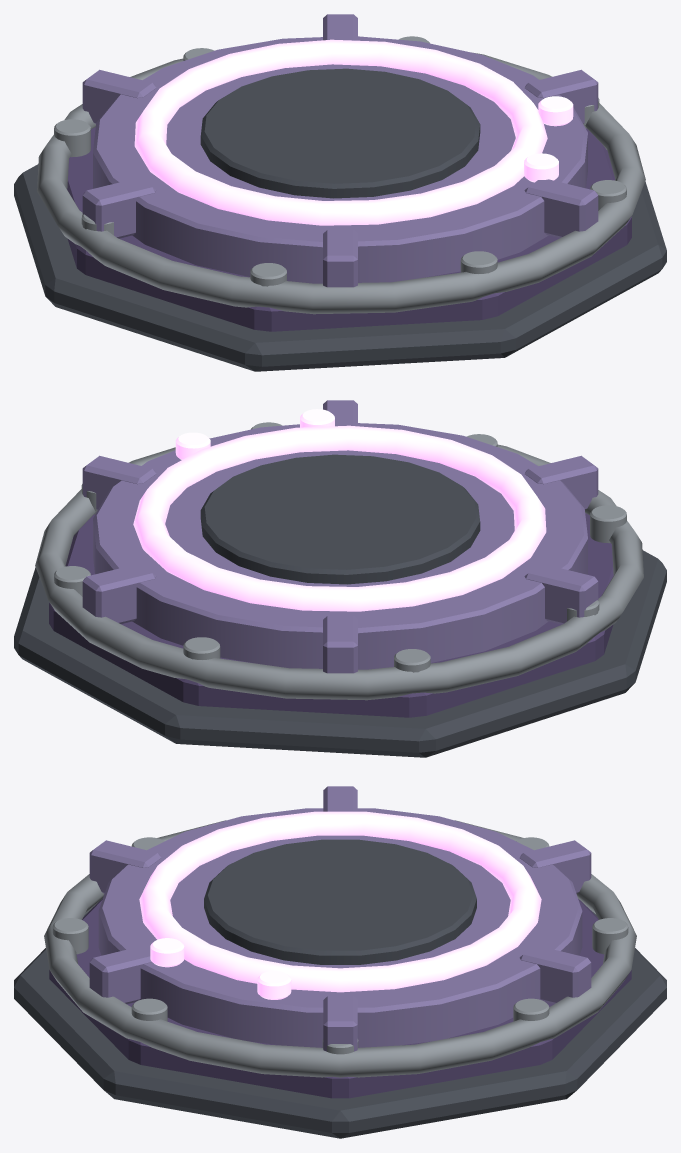
Rendered from arc_base_l2.glb.
3 renders of one model, top to bottom at view 1: azimuth 30°, elevation 25°; view 2: azimuth 150°, elevation 25°; view 3: azimuth 270°, elevation 25°, orthographic. The views are drawn at different scales.
Visible parts, largest first — view 1: Cylinder.002, Cylinder, Cylinder.003, Torus.001, Torus, Cylinder.001, Cube.005, Cube.003, Cube.002, Cube.004, Cube, Cylinder.007 (+6 smaller); view 2: Cylinder.002, Cylinder, Cylinder.003, Torus.001, Torus, Cylinder.001, Cube.001, Cube.003, Cube.004, Cube.002, Cube, Cylinder.009 (+6 smaller); view 3: Cylinder.002, Cylinder, Cylinder.003, Torus, Torus.001, Cylinder.001, Cube.001, Cube.005, Cube.002, Cube.004, Cube, Cylinder.006 (+6 smaller).
Part boxes in pixels (x1=…): Cylinder.002: x1=93, y1=36, x2=587, y2=283; Cylinder: x1=14, y1=164, x2=666, y2=371; Cylinder.003: x1=200, y1=68, x2=480, y2=198; Torus.001: x1=134, y1=39, x2=547, y2=225; Torus: x1=37, y1=52, x2=645, y2=314; Cylinder.001: x1=67, y1=127, x2=631, y2=331; Cube.005: x1=524, y1=179, x2=598, y2=237; Cube.003: x1=82, y1=177, x2=156, y2=238; Cube.002: x1=82, y1=69, x2=156, y2=123; Cube.004: x1=323, y1=229, x2=357, y2=287; Cube: x1=524, y1=69, x2=598, y2=123; Cylinder.007: x1=54, y1=119, x2=90, y2=157; Cylinder.002: x1=93, y1=423, x2=587, y2=669; Cylinder: x1=14, y1=550, x2=666, y2=757; Cylinder.003: x1=200, y1=454, x2=480, y2=584; Torus.001: x1=133, y1=425, x2=546, y2=611; Torus: x1=35, y1=444, x2=643, y2=700; Cylinder.001: x1=49, y1=513, x2=613, y2=717; Cube.001: x1=82, y1=563, x2=156, y2=623; Cube.003: x1=524, y1=563, x2=598, y2=624; Cube.004: x1=524, y1=455, x2=598, y2=509; Cube.002: x1=323, y1=615, x2=357, y2=673; Cube: x1=82, y1=455, x2=156, y2=509; Cylinder.009: x1=590, y1=505, x2=626, y2=543; Cylinder.002: x1=98, y1=808, x2=582, y2=1047; Cylinder: x1=14, y1=910, x2=666, y2=1138; Cylinder.003: x1=204, y1=839, x2=476, y2=964; Torus: x1=44, y1=820, x2=636, y2=1077; Torus.001: x1=139, y1=811, x2=541, y2=992; Cylinder.001: x1=49, y1=898, x2=631, y2=1098; Cube.001: x1=519, y1=945, x2=591, y2=1004; Cube.005: x1=89, y1=945, x2=151, y2=1004; Cube.002: x1=519, y1=840, x2=591, y2=893; Cube.004: x1=89, y1=840, x2=161, y2=893; Cube: x1=323, y1=996, x2=357, y2=1051; Cylinder.006: x1=592, y1=918, x2=628, y2=954.
Size of the model in its own units: 2.11 by 0.4 by 2.11.
